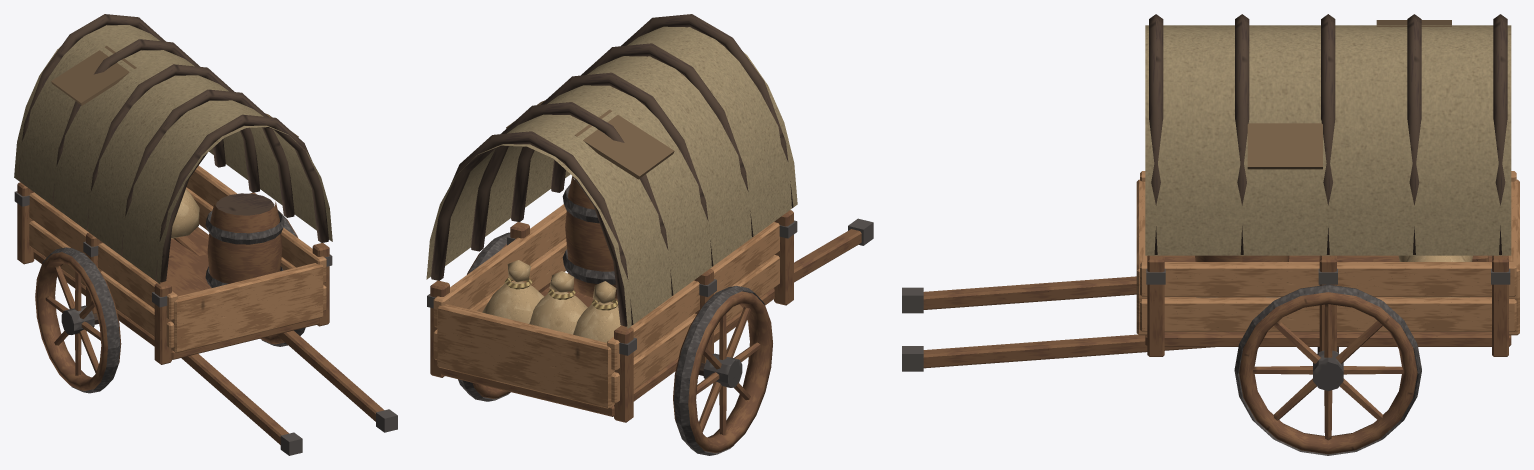
Rendered from covered_wagon.glb.
3 renders of one model, left to right at view 1: azimuth 30°, elevation 25°; view 2: azimuth 150°, elevation 25°; view 3: azimuth 270°, elevation 25°, orthographic. The views are drawn at different scales.
Visible parts, largest first — view 1: covered_wagon_canvas, covered_wagon_cart, covered_wagon_load; view 2: covered_wagon_canvas, covered_wagon_cart, covered_wagon_load; view 3: covered_wagon_canvas, covered_wagon_cart, covered_wagon_load.
Boxes of the visible parts, <box> form: covered_wagon_canvas: <box>14,14,332,283</box>; covered_wagon_cart: <box>14,165,397,455</box>; covered_wagon_load: <box>171,189,284,287</box>; covered_wagon_canvas: <box>426,14,797,328</box>; covered_wagon_cart: <box>427,204,873,455</box>; covered_wagon_load: <box>482,176,620,342</box>; covered_wagon_canvas: <box>1145,14,1511,255</box>; covered_wagon_cart: <box>902,171,1519,455</box>; covered_wagon_load: <box>1195,255,1472,297</box>.
Size of what is drawn, in the model's own units: 1.42 by 1.93 by 2.87.
8 materials, 8 textured.
